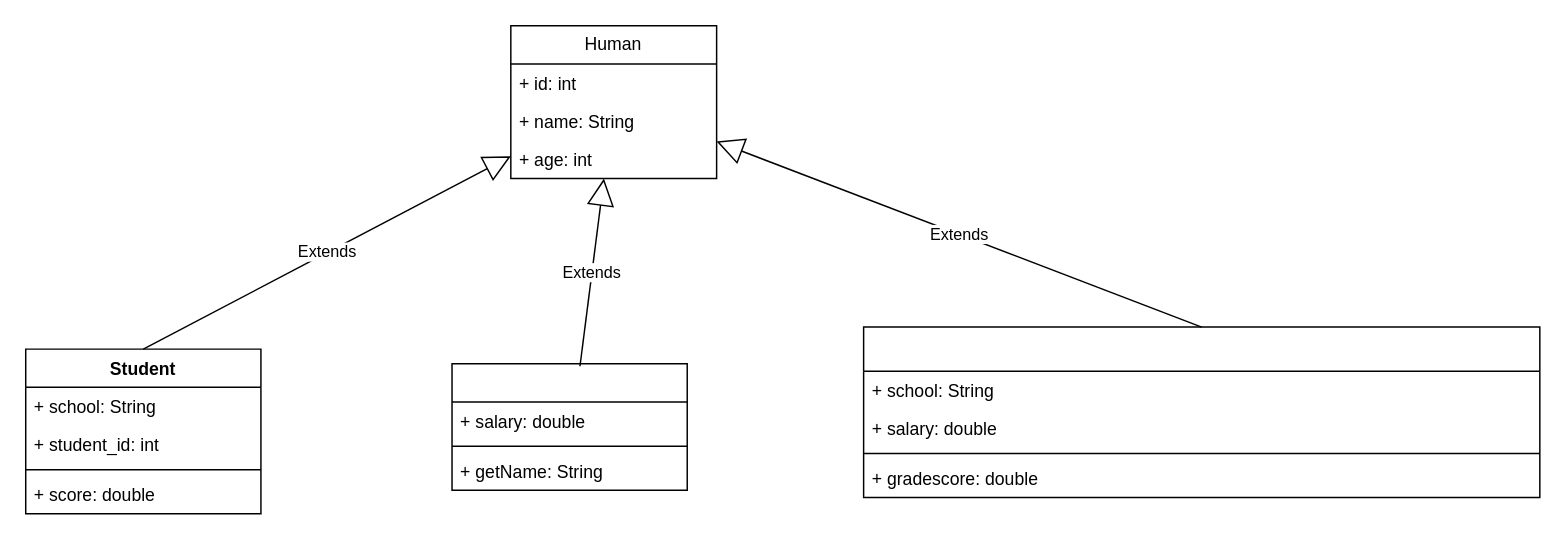
Some shapes in this 1566 by 544 pixel diagram are drawn without their labels. The box of each missing label's shape, as (x1, y1, x2, y2) in pixels:
Employee: (451, 362, 687, 490)
Teacher: (862, 326, 1540, 498)
